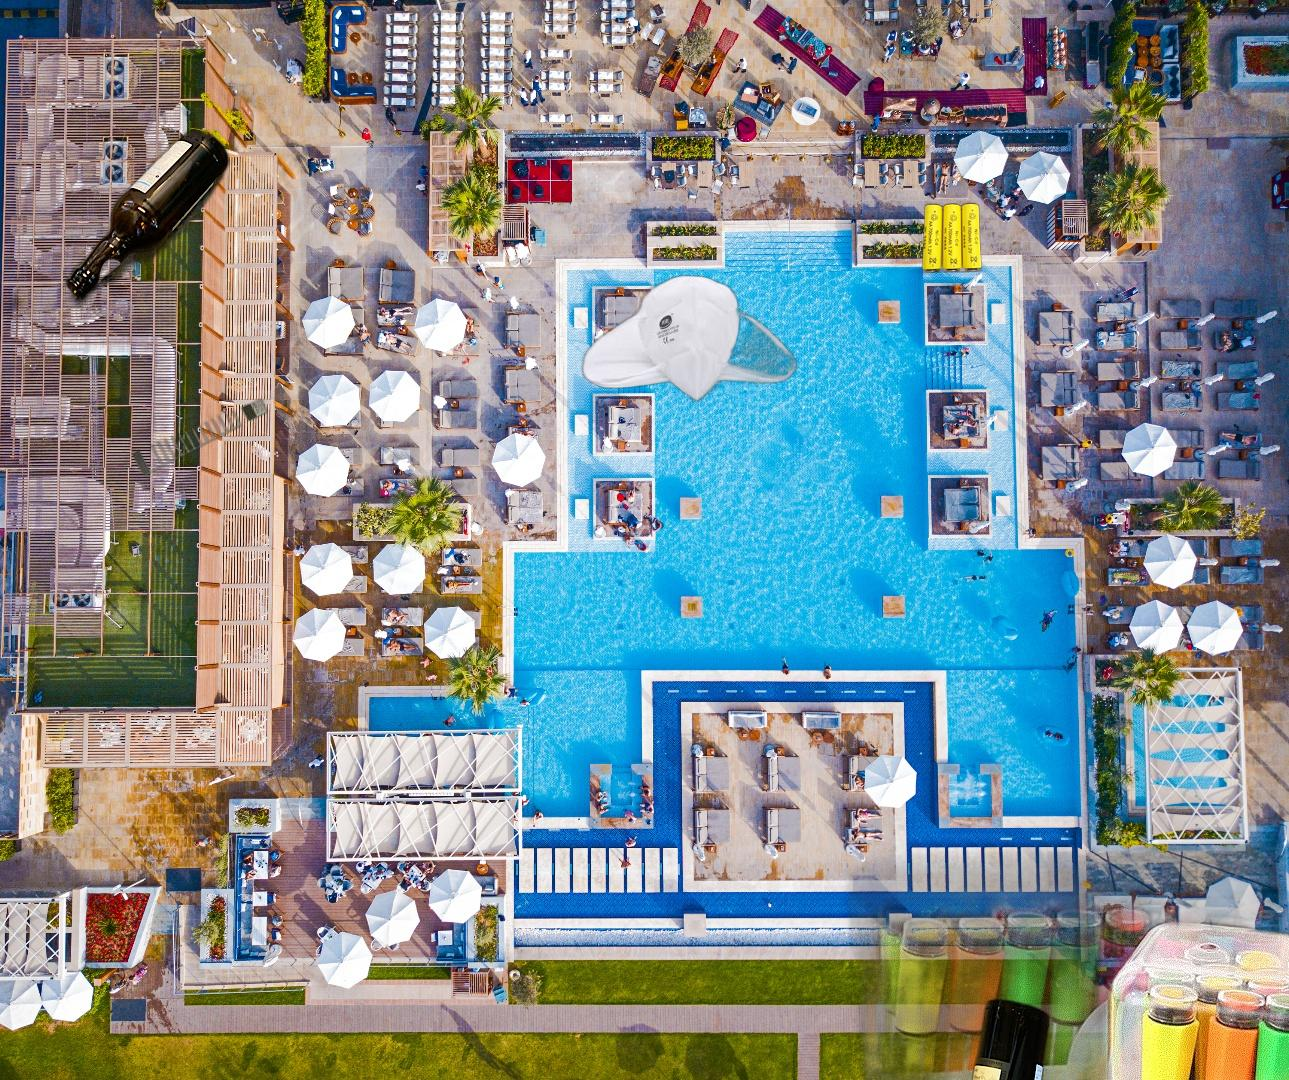battery: (919, 200, 985, 276)
glass: (59, 125, 234, 313), (955, 993, 1053, 1080)
paper: (64, 182, 272, 479)
penholder: (823, 731, 1289, 1080)
trash: (579, 272, 801, 412)
